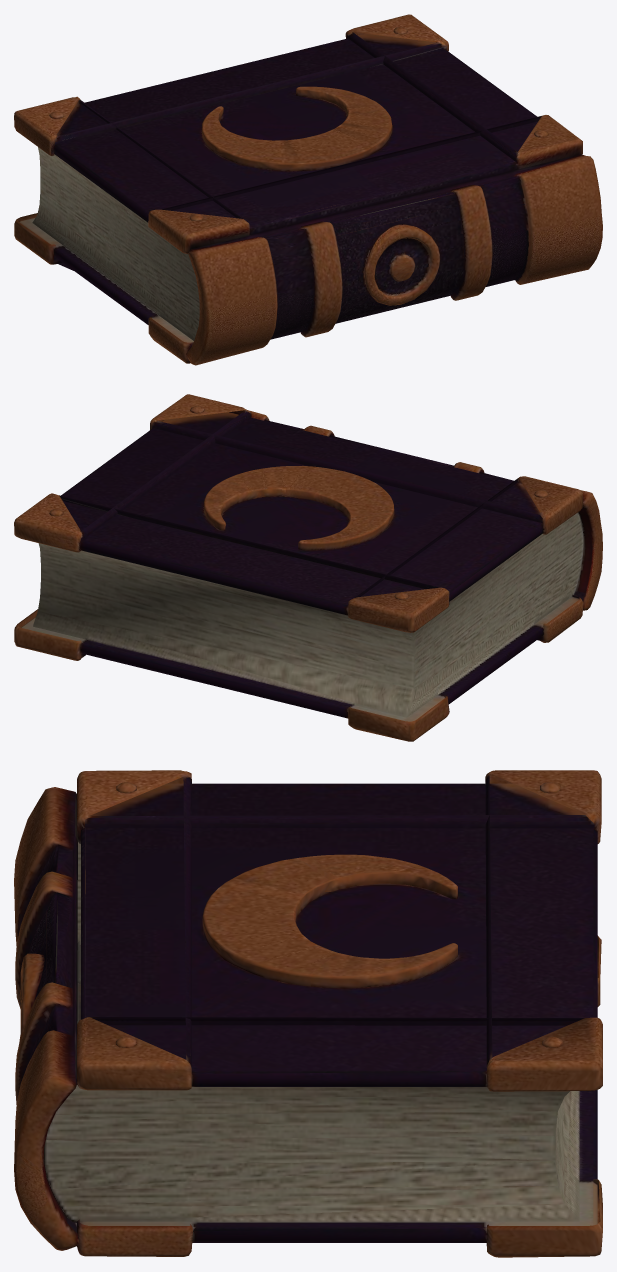
The model's file is tripo_convert_88ac9992-964d-4747-b45d-6dc85ccf6676.fbx.
The picture shows the model from 3 angles, top to bottom: view 1: azimuth 30°, elevation 25°; view 2: azimuth 150°, elevation 25°; view 3: azimuth 270°, elevation 25°; orthographic projection. The views are drawn at different scales.
Parts seen in each view (by area): view 1: tripo_node_88ac9992; view 2: tripo_node_88ac9992; view 3: tripo_node_88ac9992.
Part boxes in pixels (left/top/right/bottom): tripo_node_88ac9992: left=14, top=14, right=602, bottom=365; tripo_node_88ac9992: left=14, top=394, right=602, bottom=741; tripo_node_88ac9992: left=14, top=770, right=602, bottom=1257.
Size of the model in its own units: 0.998 by 0.3223 by 0.8418.
1 material, 1 textured.
